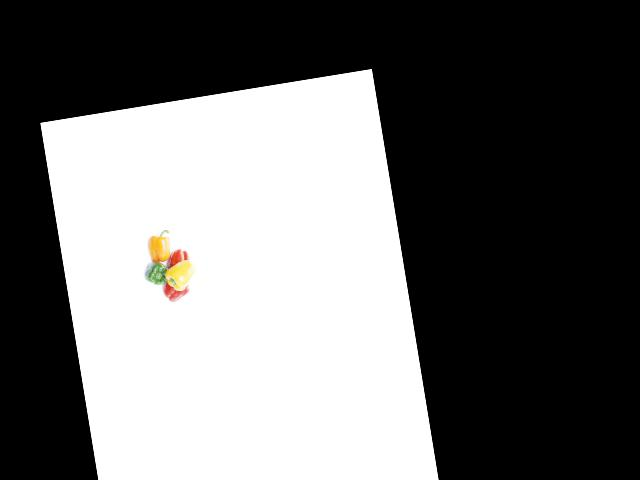bell_pepper: (138, 257, 176, 293)
